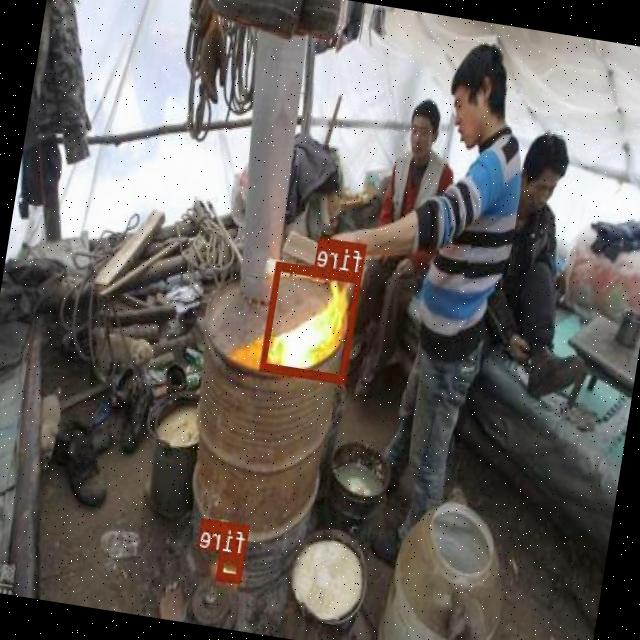fire: (261, 262, 362, 382), (218, 552, 245, 582)
